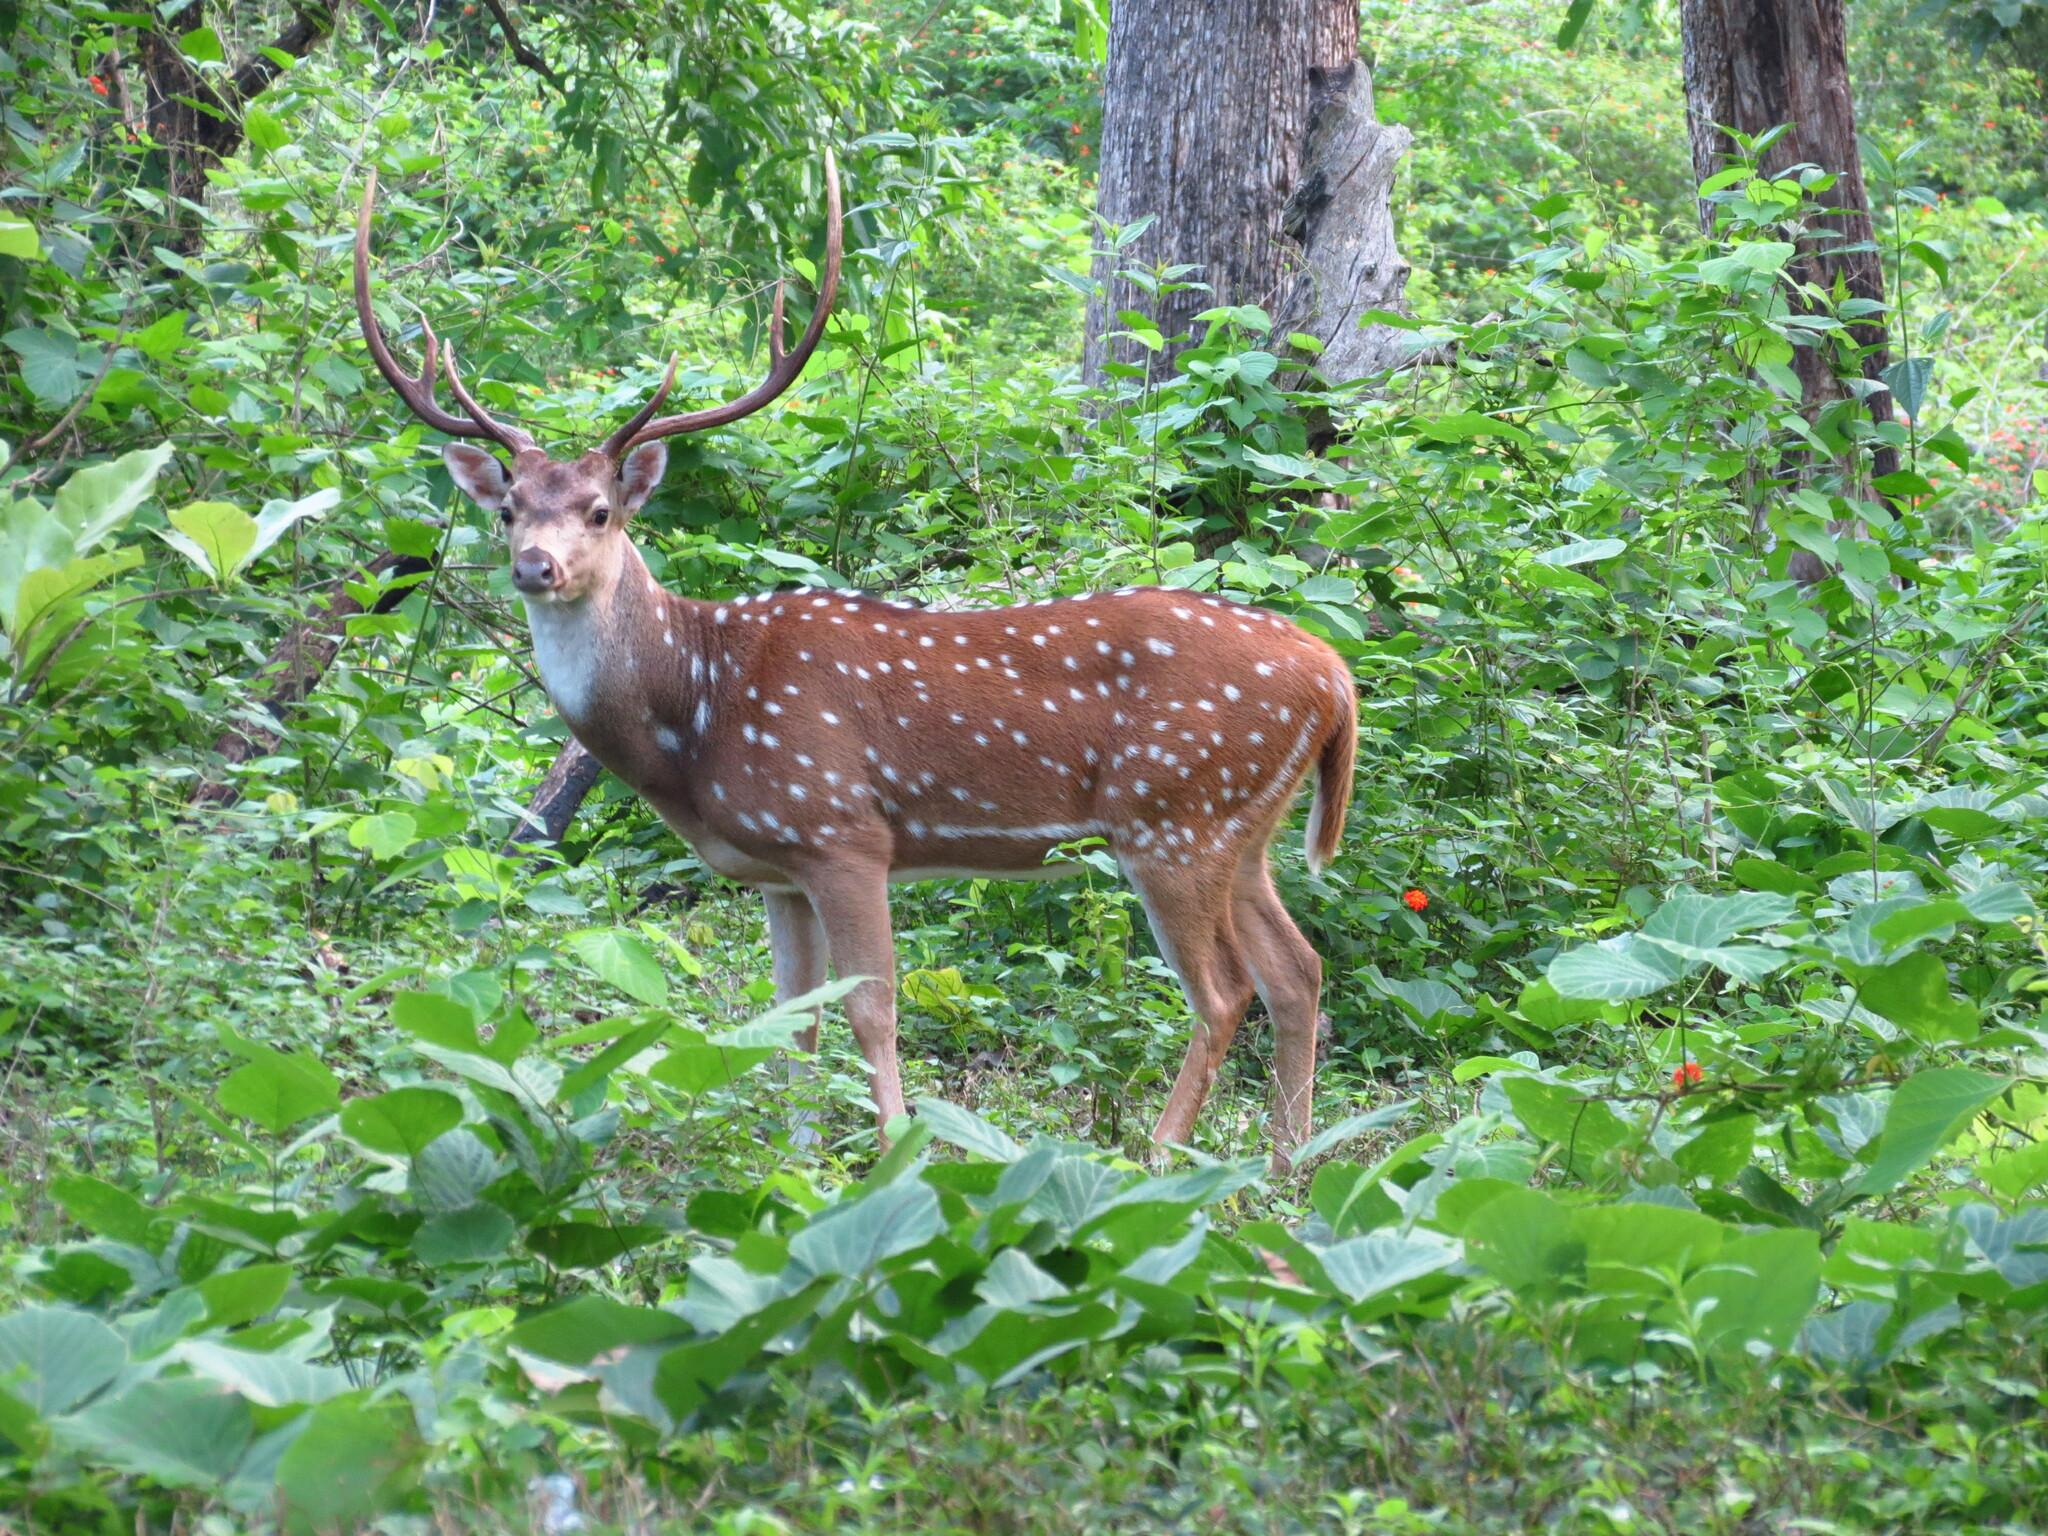Deer: (353, 150, 1356, 1142)
